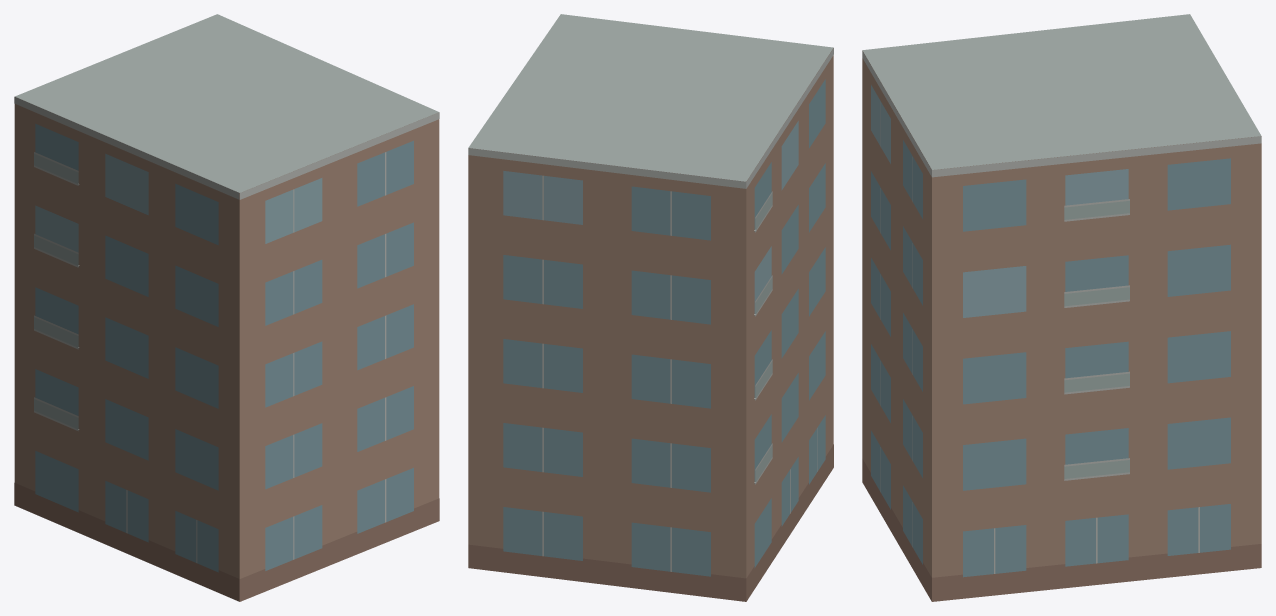
Rendered from survey-upis-32646915.glb.
3 views of the same model, side by side, from view 1: azimuth 30°, elevation 25°; view 2: azimuth 150°, elevation 25°; view 3: azimuth 270°, elevation 25° (orthographic). The views are drawn at different scales.
Visible parts, largest first — view 1: survey-upis-32646915.tmp; view 2: survey-upis-32646915.tmp; view 3: survey-upis-32646915.tmp.
Part boxes in pixels (<box>): survey-upis-32646915.tmp: <box>14,14,439,601</box>; survey-upis-32646915.tmp: <box>468,14,833,601</box>; survey-upis-32646915.tmp: <box>862,14,1261,601</box>.
Size of the model in its own units: 11.09 by 14.3 by 11.99.
